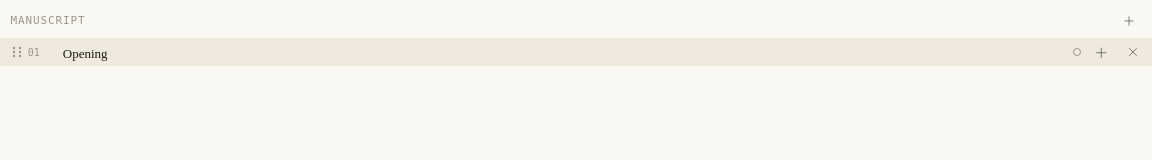
Scenario: ChapterList — delete › Escape dismisses the confirm
This screenshot has width=1152, height=160.
Expected: the list item with test id "chapter-row-c1" is shown, [0,38,1151,66]
Click the button with test id "chapter-row-c1-delete" at (1133, 52), box [1120,40,1145,64]
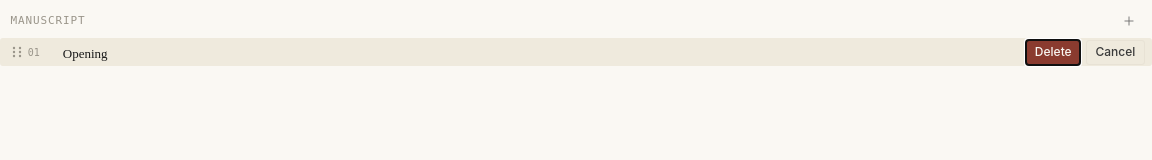
Press Escape
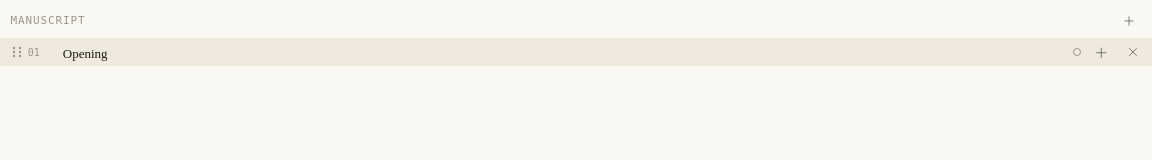
Now the button with test id "chapter-row-c1-confirm-delete" is gone
